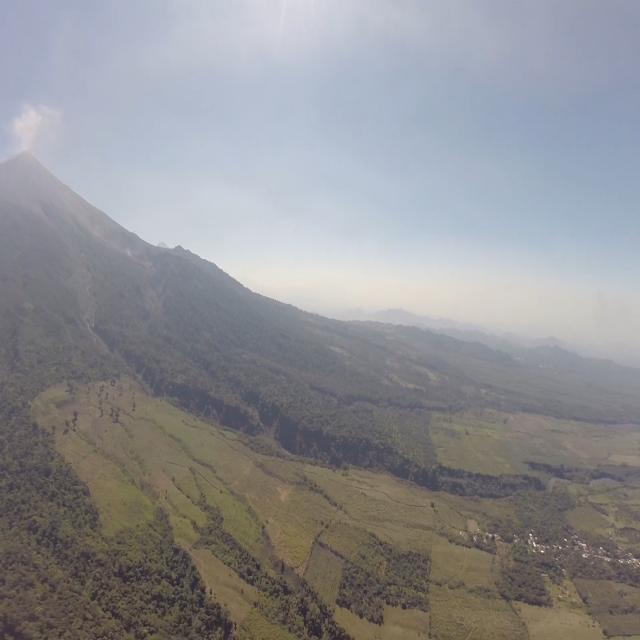Plume: (11, 98, 59, 146)
Summit: (12, 144, 40, 170)
